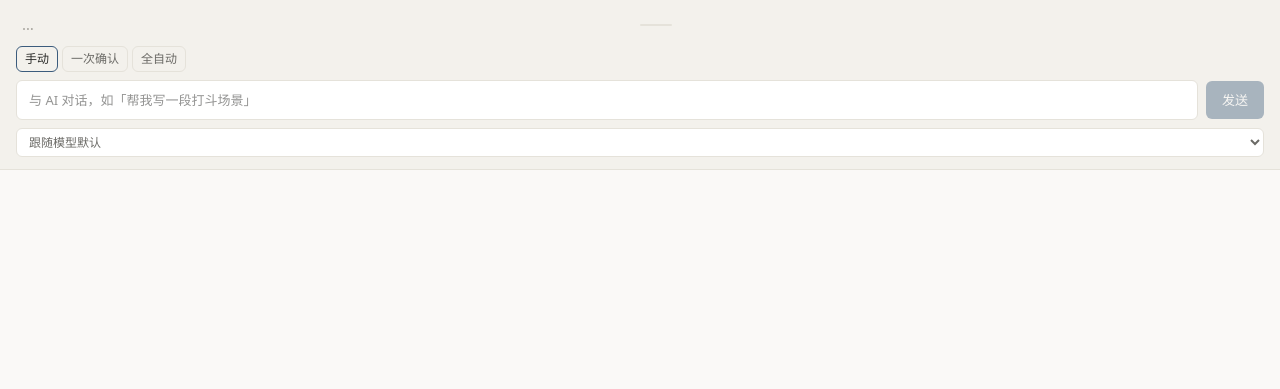
it: ChatPanel — #1161 C1 陈旧快照丢弃（加载在途发送） › C1：加载在途期间发送 → 陈旧空快照落地被丢弃（用户消息不被抹）+ 后续发送不重号
In the text box with test id "chat-input": coordinates (607, 100) x1=16 y1=80 x2=1198 y2=120, type "竞态提问"
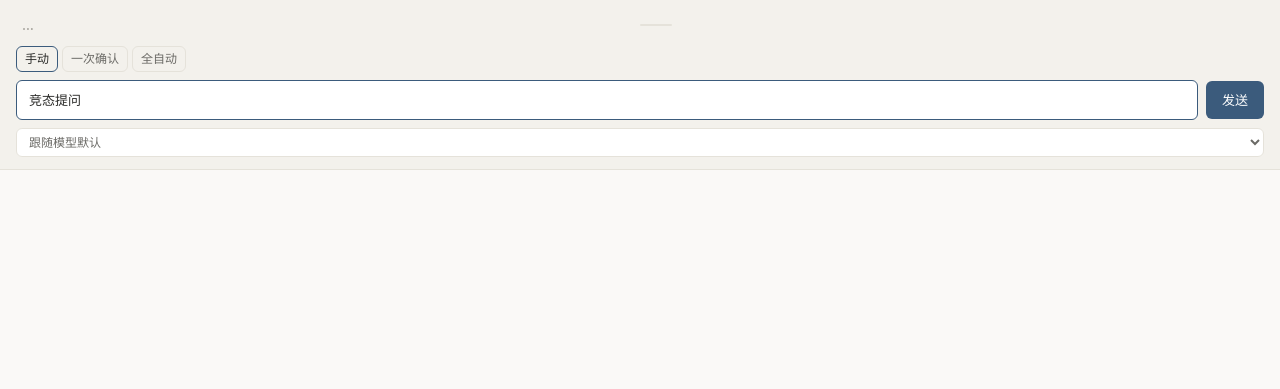
Click the button with test id "chat-send": coordinates (1235, 100) x1=1206 y1=81 x2=1264 y2=119
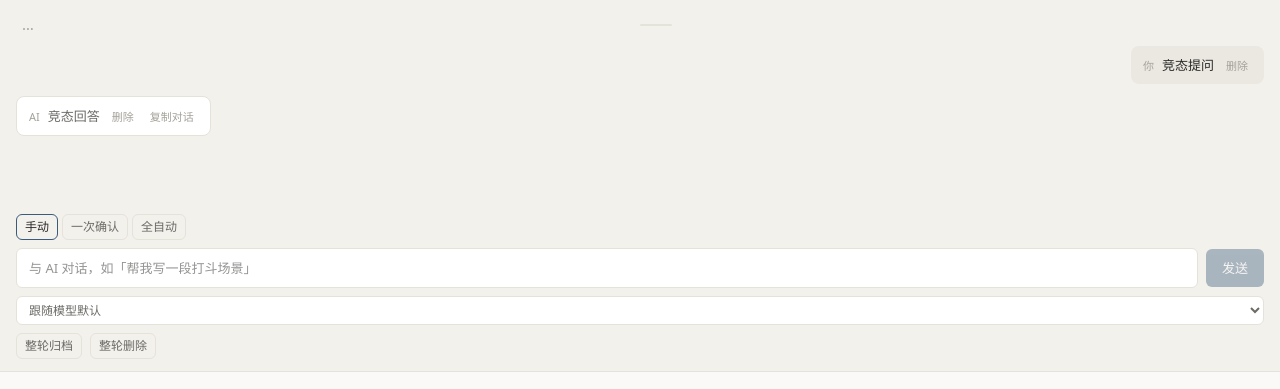
Expected: the element with test id "chat-msg-user-0" shows "竞态提问", x1=1162 y1=56 x2=1214 y2=74
In the text box with test id "chat-input": coordinates (607, 268) x1=16 y1=248 x2=1198 y2=288, type "第二条"
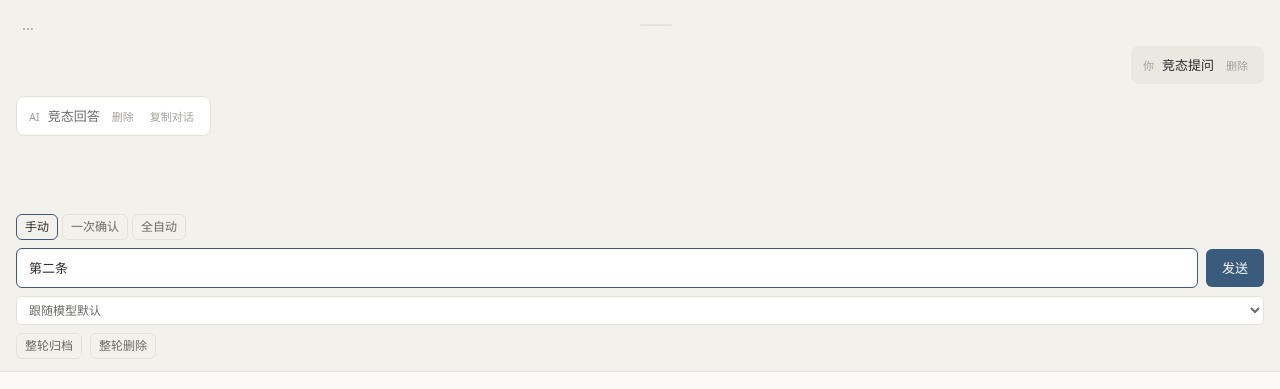
Click the button with test id "chat-send": coordinates (1235, 268) x1=1206 y1=249 x2=1264 y2=287
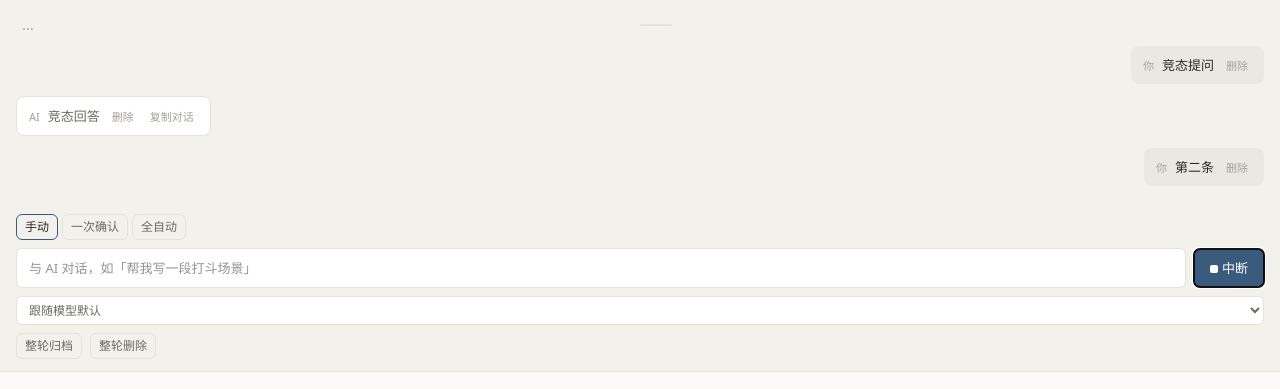
Expected: the element with test id "chat-msg-user-0" shows "竞态提问", x1=1162 y1=56 x2=1214 y2=74
Expected: the element with test id "chat-msg-user-1" shows "第二条", x1=1175 y1=158 x2=1214 y2=176
